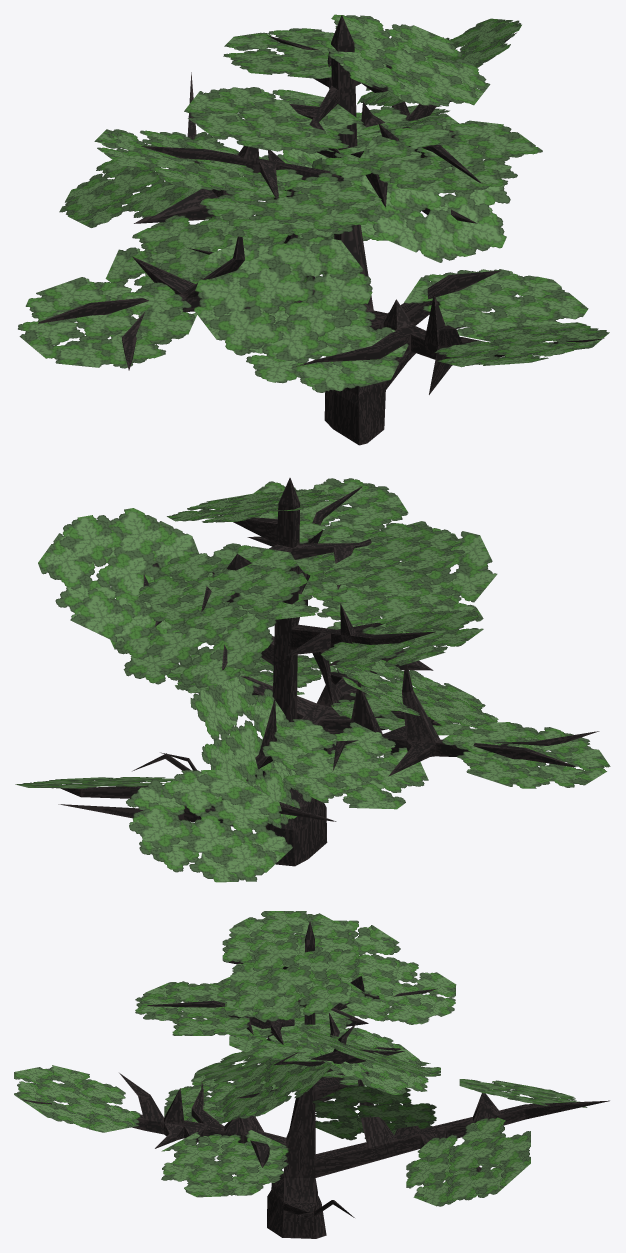
File: OakTree.fbx
The picture shows the model from 3 angles, top to bottom: view 1: azimuth 30°, elevation 25°; view 2: azimuth 150°, elevation 25°; view 3: azimuth 270°, elevation 25°; orthographic projection. The views are drawn at different scales.
Parts seen in each view (by area): view 1: OakTree, cylinder_8, cylinder_7, cylinder_16, cylinder_13, cylinder_10, cylinder_14, cylinder_17, cylinder_4, cylinder_5, cylinder_6, cylinder_9 (+6 smaller); view 2: OakTree, cylinder_1, cylinder_12, cylinder_18, cylinder_6, cylinder_2, cylinder_11, cylinder_7, cylinder_17, cylinder_9, cylinder_13, cylinder_8 (+7 smaller); view 3: OakTree, cylinder_16, cylinder, cylinder_4, cylinder_18, cylinder_3, cylinder_13, cylinder_2, cylinder_17, cylinder_14, cylinder_15, cylinder_11 (+6 smaller).
Boxes of the visible parts, bbox=[...] form: OakTree: bbox=[38, 15, 604, 445]; cylinder_8: bbox=[194, 233, 372, 360]; cylinder_7: bbox=[18, 277, 197, 368]; cylinder_16: bbox=[321, 14, 490, 106]; cylinder_13: bbox=[358, 120, 542, 193]; cylinder_10: bbox=[200, 169, 381, 239]; cylinder_14: bbox=[343, 128, 510, 262]; cylinder_17: bbox=[184, 87, 363, 151]; cylinder_4: bbox=[404, 269, 588, 341]; cylinder_5: bbox=[225, 300, 408, 392]; cylinder_6: bbox=[105, 215, 286, 287]; cylinder_9: bbox=[94, 129, 265, 191]; OakTree: bbox=[58, 478, 599, 866]; cylinder_1: bbox=[126, 769, 292, 882]; cylinder_12: bbox=[38, 508, 207, 641]; cylinder_18: bbox=[137, 543, 307, 630]; cylinder_6: bbox=[262, 719, 428, 809]; cylinder_2: bbox=[190, 676, 311, 828]; cylinder_11: bbox=[110, 575, 276, 688]; cylinder_7: bbox=[442, 722, 610, 788]; cylinder_17: bbox=[295, 523, 464, 588]; cylinder_9: bbox=[320, 610, 483, 668]; cylinder_13: bbox=[253, 478, 408, 543]; cylinder_8: bbox=[332, 659, 493, 726]; OakTree: bbox=[20, 921, 609, 1238]; cylinder_16: bbox=[230, 935, 359, 1022]; cylinder: bbox=[406, 1117, 530, 1206]; cylinder_4: bbox=[161, 1130, 288, 1197]; cylinder_18: bbox=[327, 954, 456, 1024]; cylinder_3: bbox=[14, 1065, 140, 1132]; cylinder_13: bbox=[135, 980, 257, 1035]; cylinder_2: bbox=[312, 1086, 436, 1140]; cylinder_17: bbox=[222, 911, 353, 970]; cylinder_14: bbox=[222, 1058, 330, 1121]; cylinder_15: bbox=[229, 1010, 356, 1061]; cylinder_11: bbox=[307, 1026, 428, 1094].
Size of the model in its own units: 1320 by 975 by 1713.
1 material, 1 textured.
